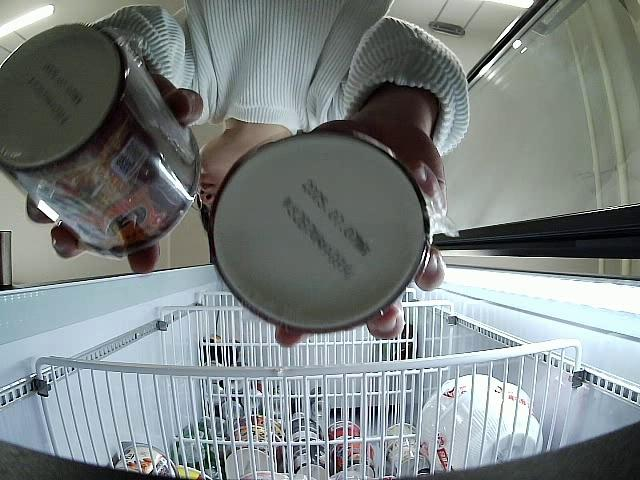00_hand: (274, 115, 446, 347), (27, 66, 204, 274)
06_nuguri_S: (0, 23, 202, 255), (209, 129, 432, 333)
